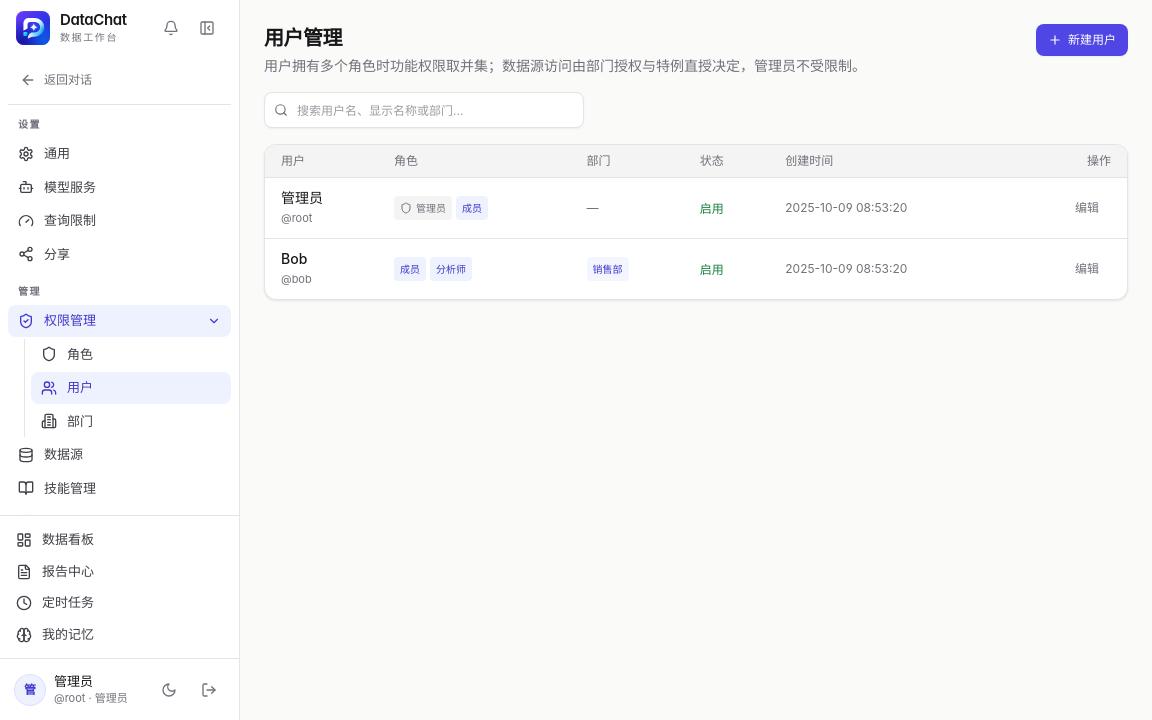
UsersPage › renders users with role badges and status
Expected: the text "Bob" is shown, [281, 250, 307, 267]
Expected: the text "@bob" is shown, [281, 272, 312, 286]
In the field labelled "搜索用户": (424, 110) [264, 92, 584, 128], type "销售"
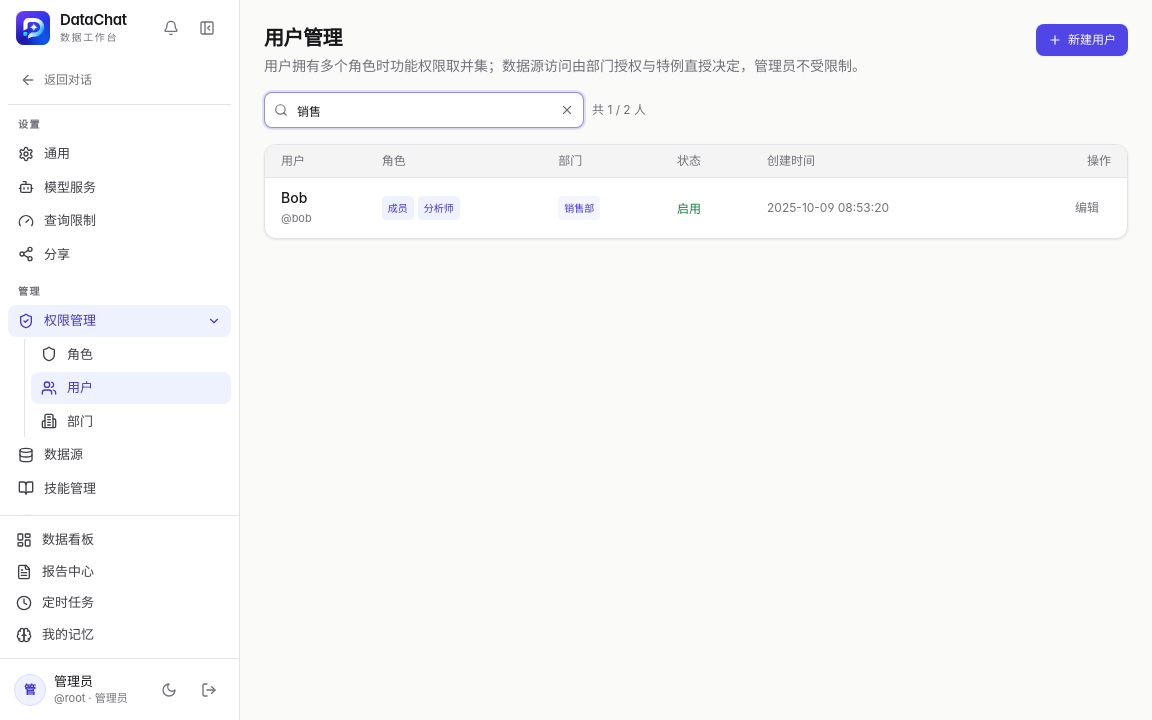
Expected: the text "Bob" is shown, [281, 189, 307, 206]
Click the button named "清除搜索": (567, 110) [556, 99, 578, 121]
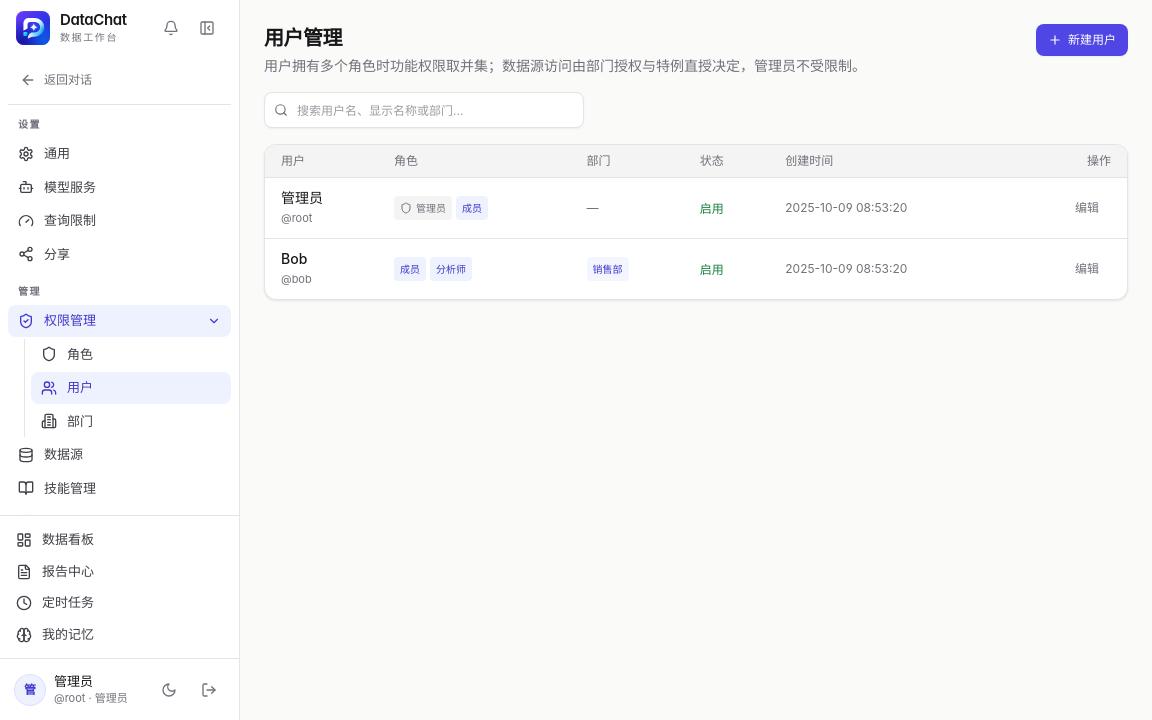
Expected: the text "@root" is shown, [281, 211, 312, 225]
